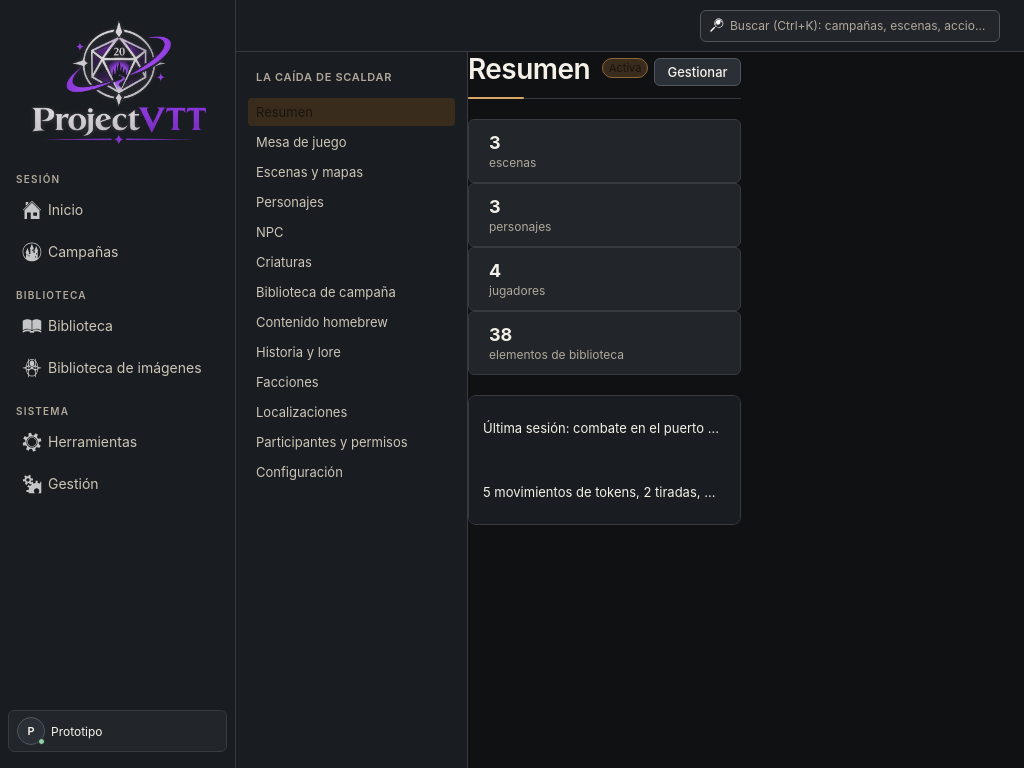
it: Prototipo Espacio de campaña (PMB-2.6) › cambia de sección al pulsar la subnavegación
Step 1. Click the text "Escenas y mapas" → (310, 172), box left=256, top=164, right=363, bottom=180
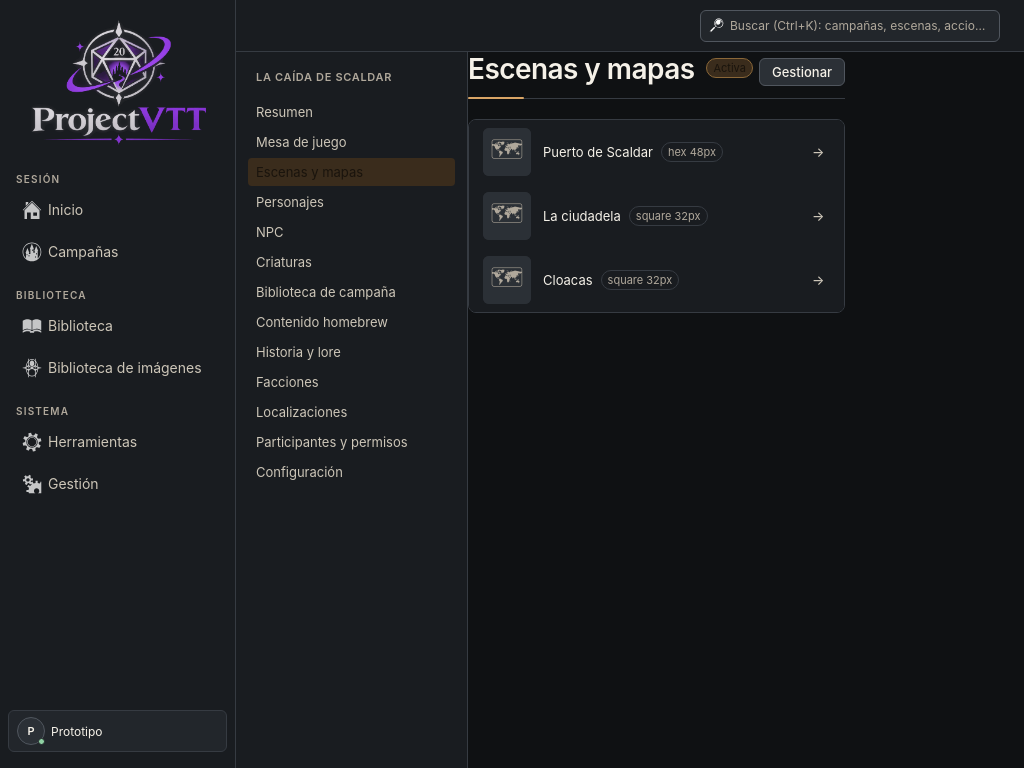
Check: the heading "Escenas y mapas" is shown, box left=468, top=52, right=694, bottom=86
Check: the text "Puerto de Scaldar" is shown, box left=543, top=144, right=653, bottom=160
Step 2. Click the text "Personajes" → (290, 202), box left=256, top=194, right=324, bottom=210
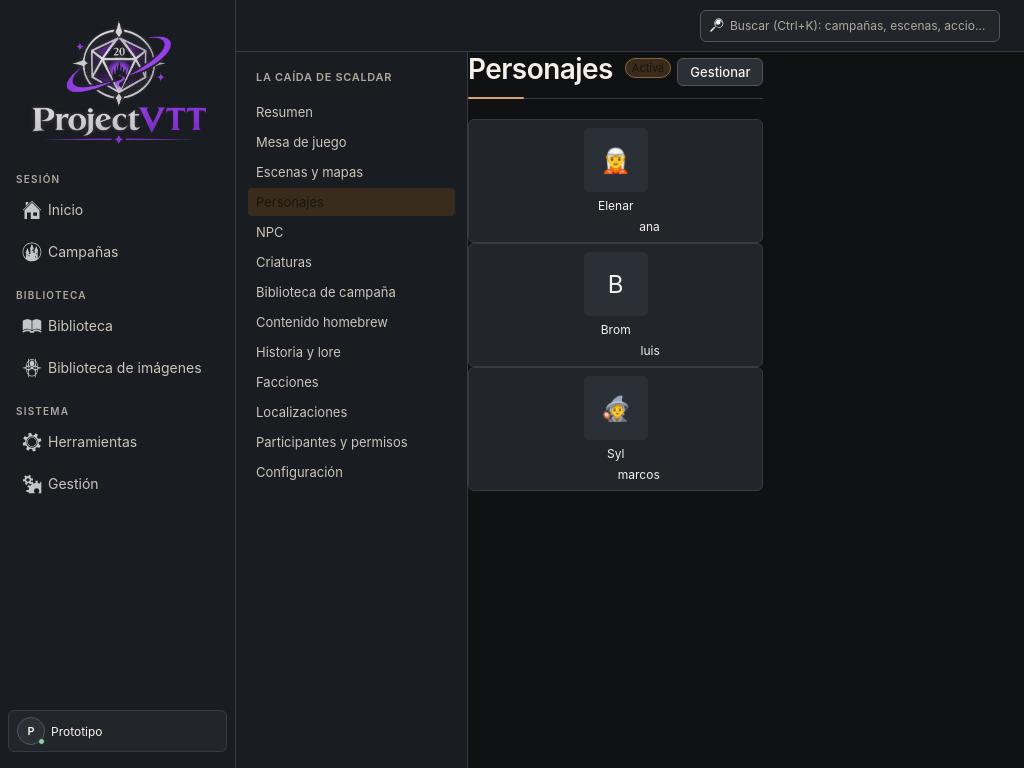
Check: the text "Elenar" is shown, box left=598, top=198, right=634, bottom=213
